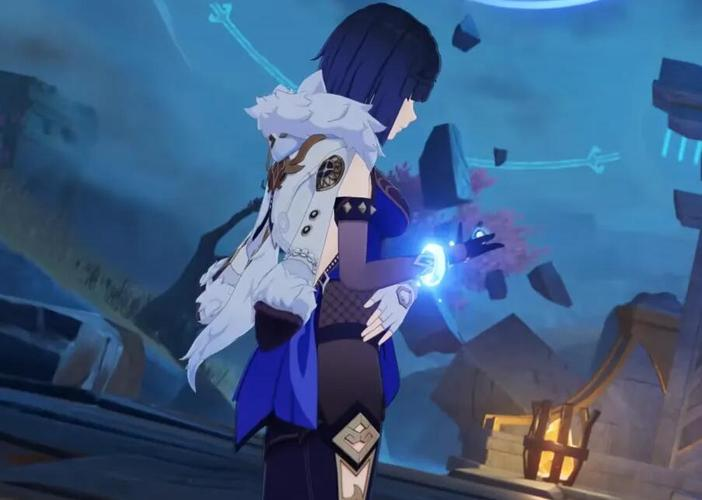夜兰: (234, 4, 507, 500)
